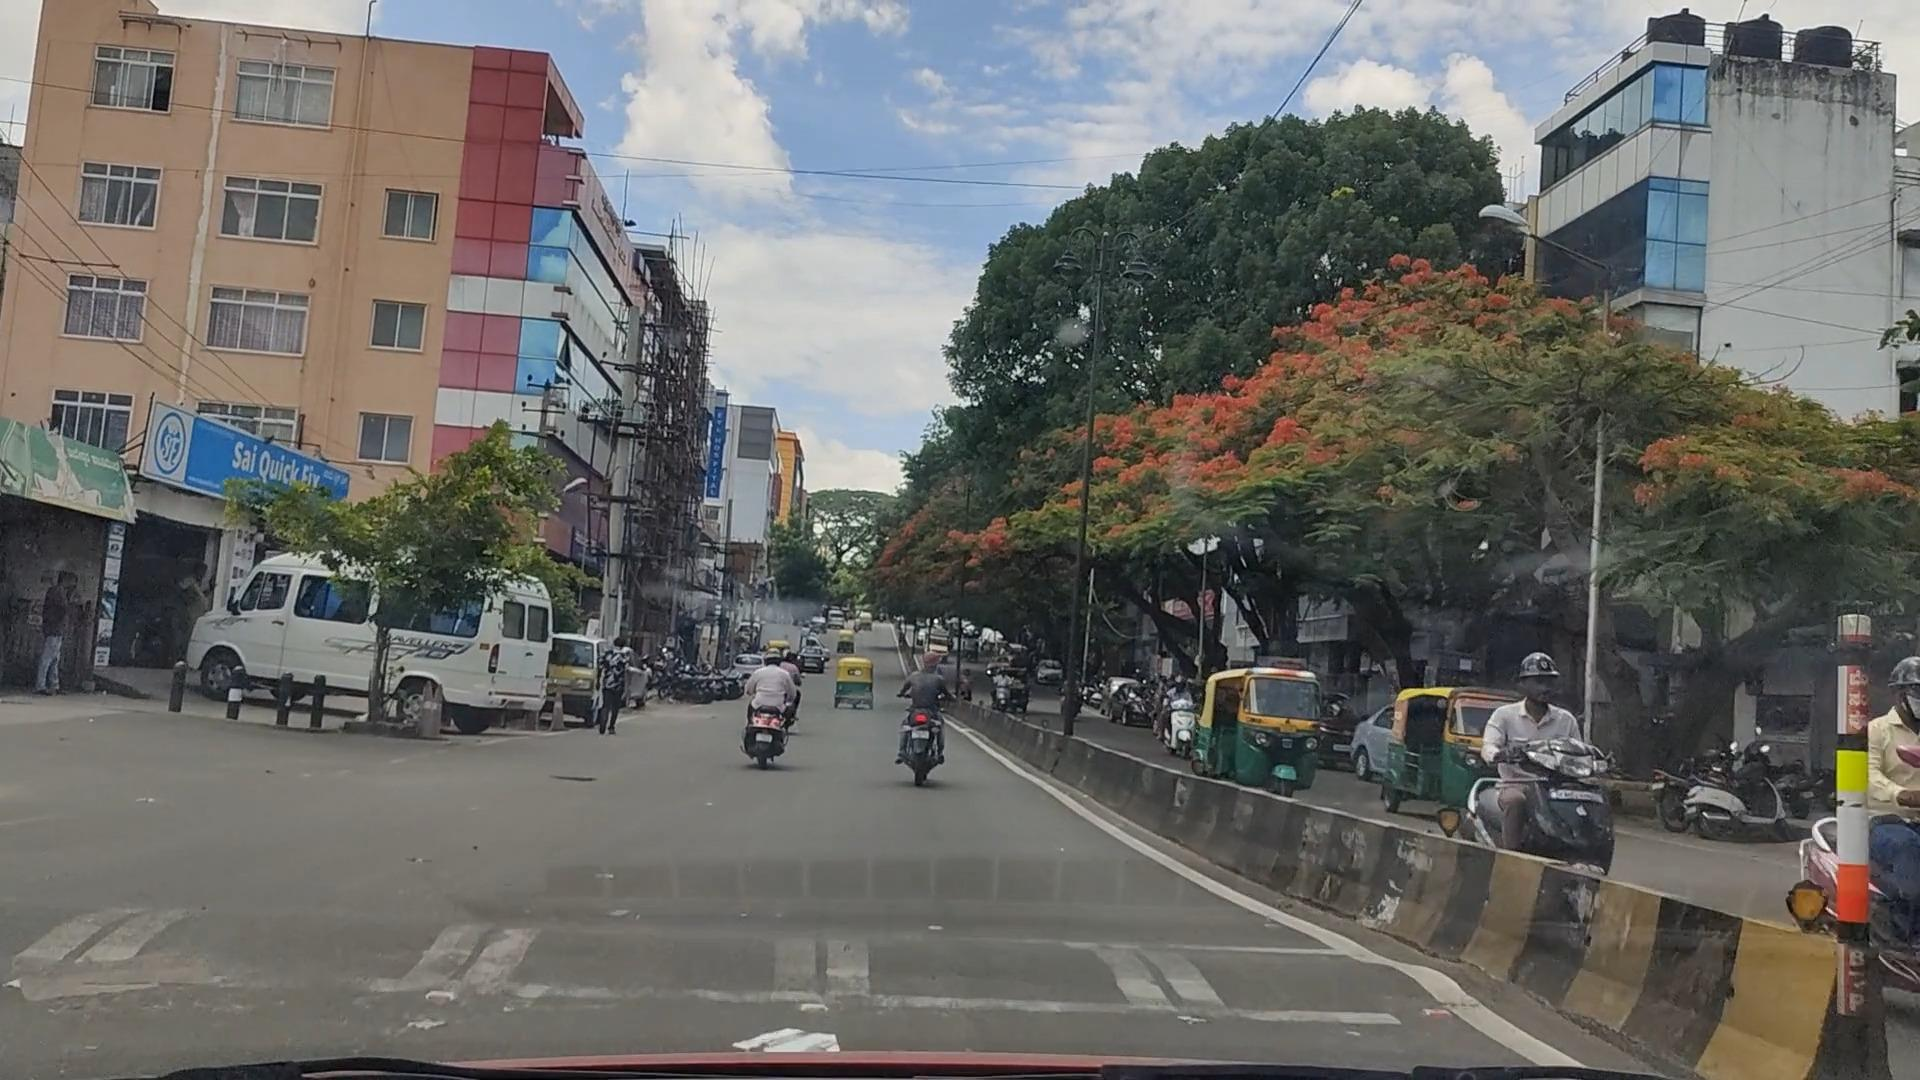SpeedBump: (22, 893, 1447, 1025)
